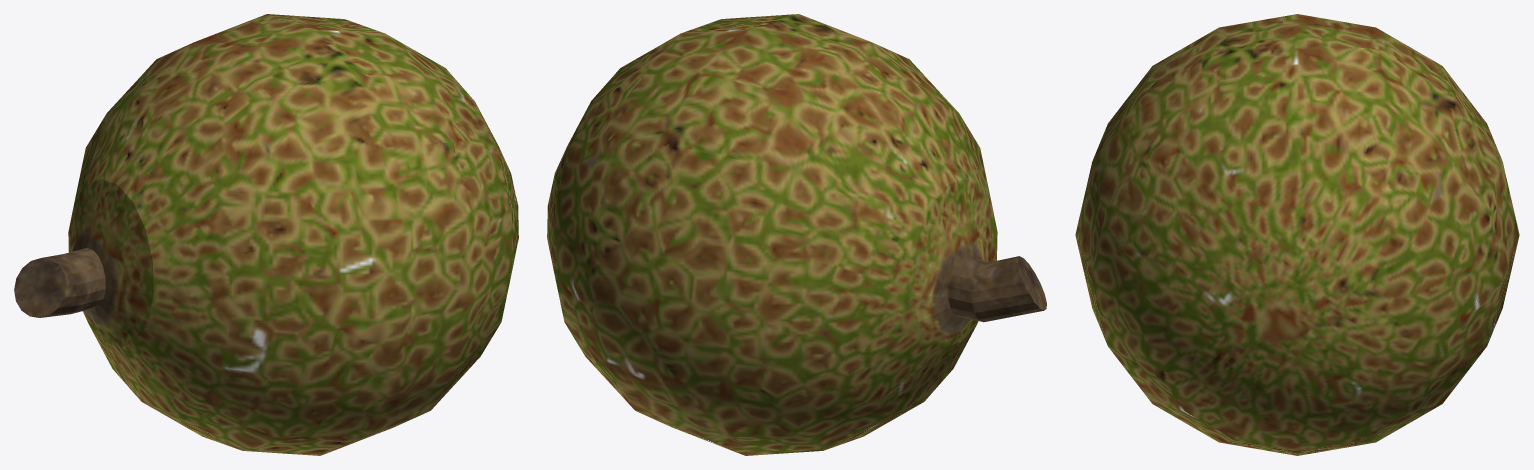
Rendered from SM_配餐室_水果蔬菜_10.fbx.
3 views of the same model, side by side, from view 1: azimuth 30°, elevation 25°; view 2: azimuth 150°, elevation 25°; view 3: azimuth 270°, elevation 25° (orthographic).
Parts seen in each view (by area): view 1: SM_配餐室_水果蔬菜_10; view 2: SM_配餐室_水果蔬菜_10; view 3: SM_配餐室_水果蔬菜_10.
Boxes of the visible parts, box(x1,y1,x2,y2) form: SM_配餐室_水果蔬菜_10: box(14, 14, 518, 455); SM_配餐室_水果蔬菜_10: box(547, 14, 1046, 455); SM_配餐室_水果蔬菜_10: box(1075, 14, 1519, 455).
Size of the model in its own units: 237 by 193 by 194.
